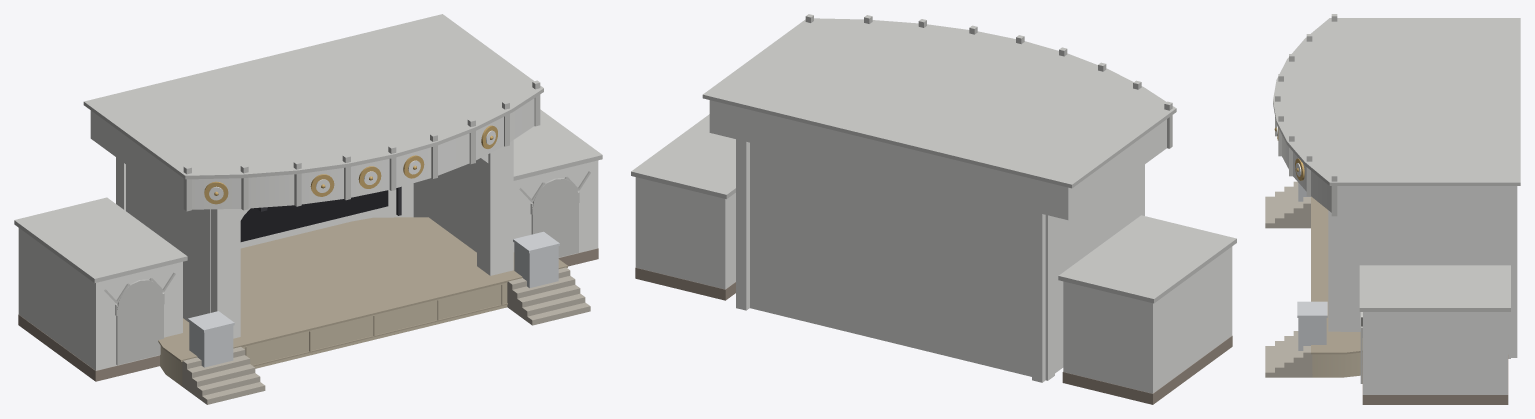
The picture shows the model from 3 angles, left to right: view 1: azimuth 30°, elevation 25°; view 2: azimuth 150°, elevation 25°; view 3: azimuth 270°, elevation 25°; orthographic projection. The views are drawn at different scales.
Parts seen in each view (by area): view 1: base; view 2: base; view 3: base.
Boxes of the visible parts, x1,y1,x2,y2 form: base: (14, 14, 602, 404); base: (631, 14, 1236, 404); base: (1265, 14, 1520, 404).
Size of the model in its own units: 17.5 by 6.8 by 8.09.
